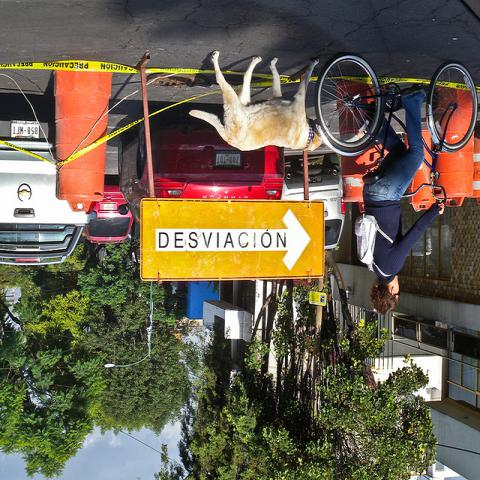car: (115, 120, 286, 230), (0, 115, 90, 269), (282, 144, 345, 250), (84, 184, 133, 244)
